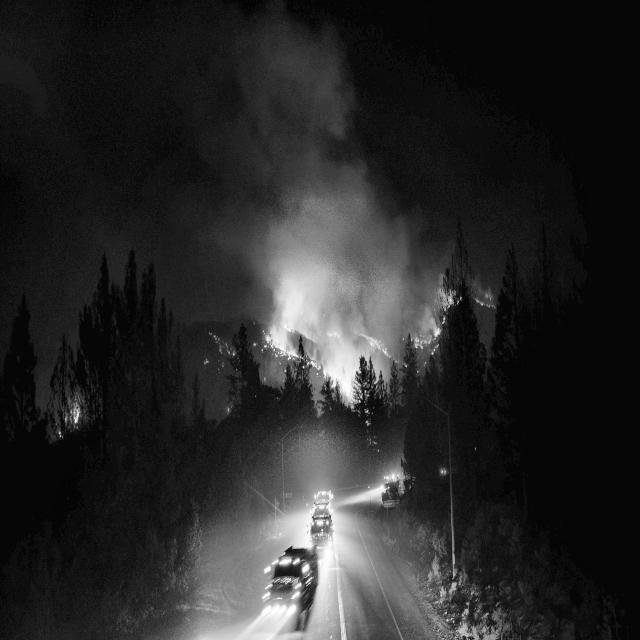fire: (156, 224, 475, 474)
